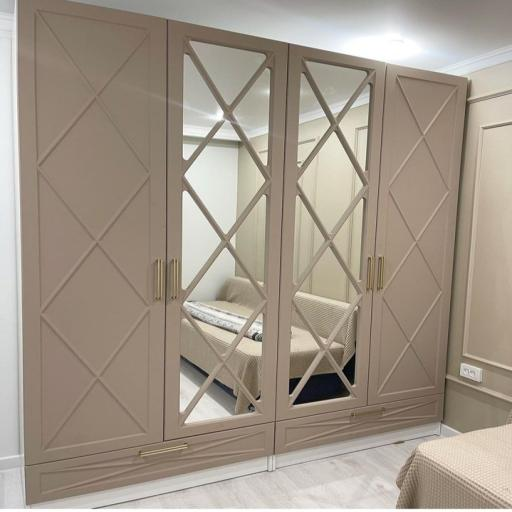car: (18, 0, 465, 503)
